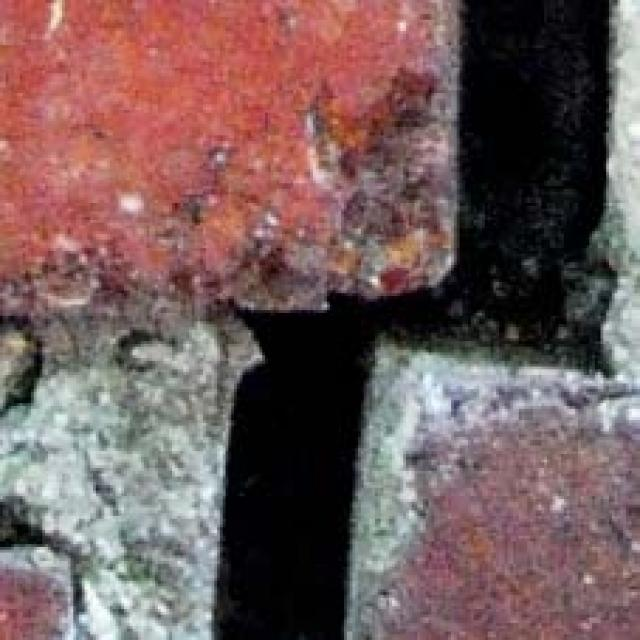Crack: (149, 4, 640, 640)
